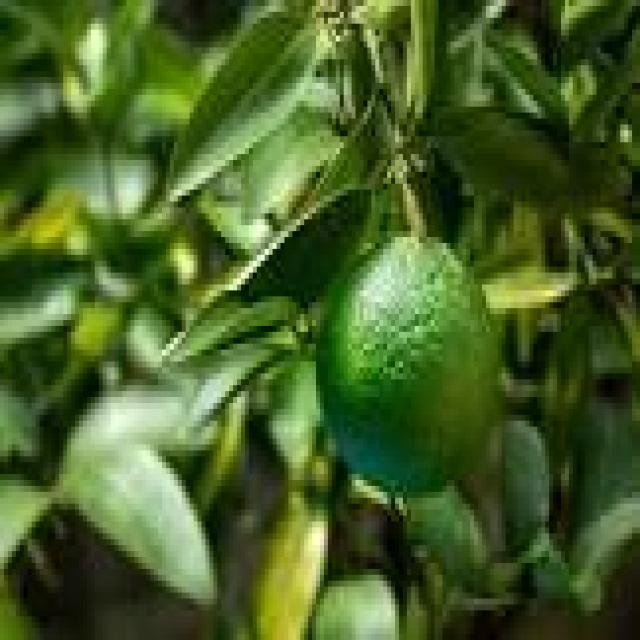orange: (316, 237, 502, 493)
